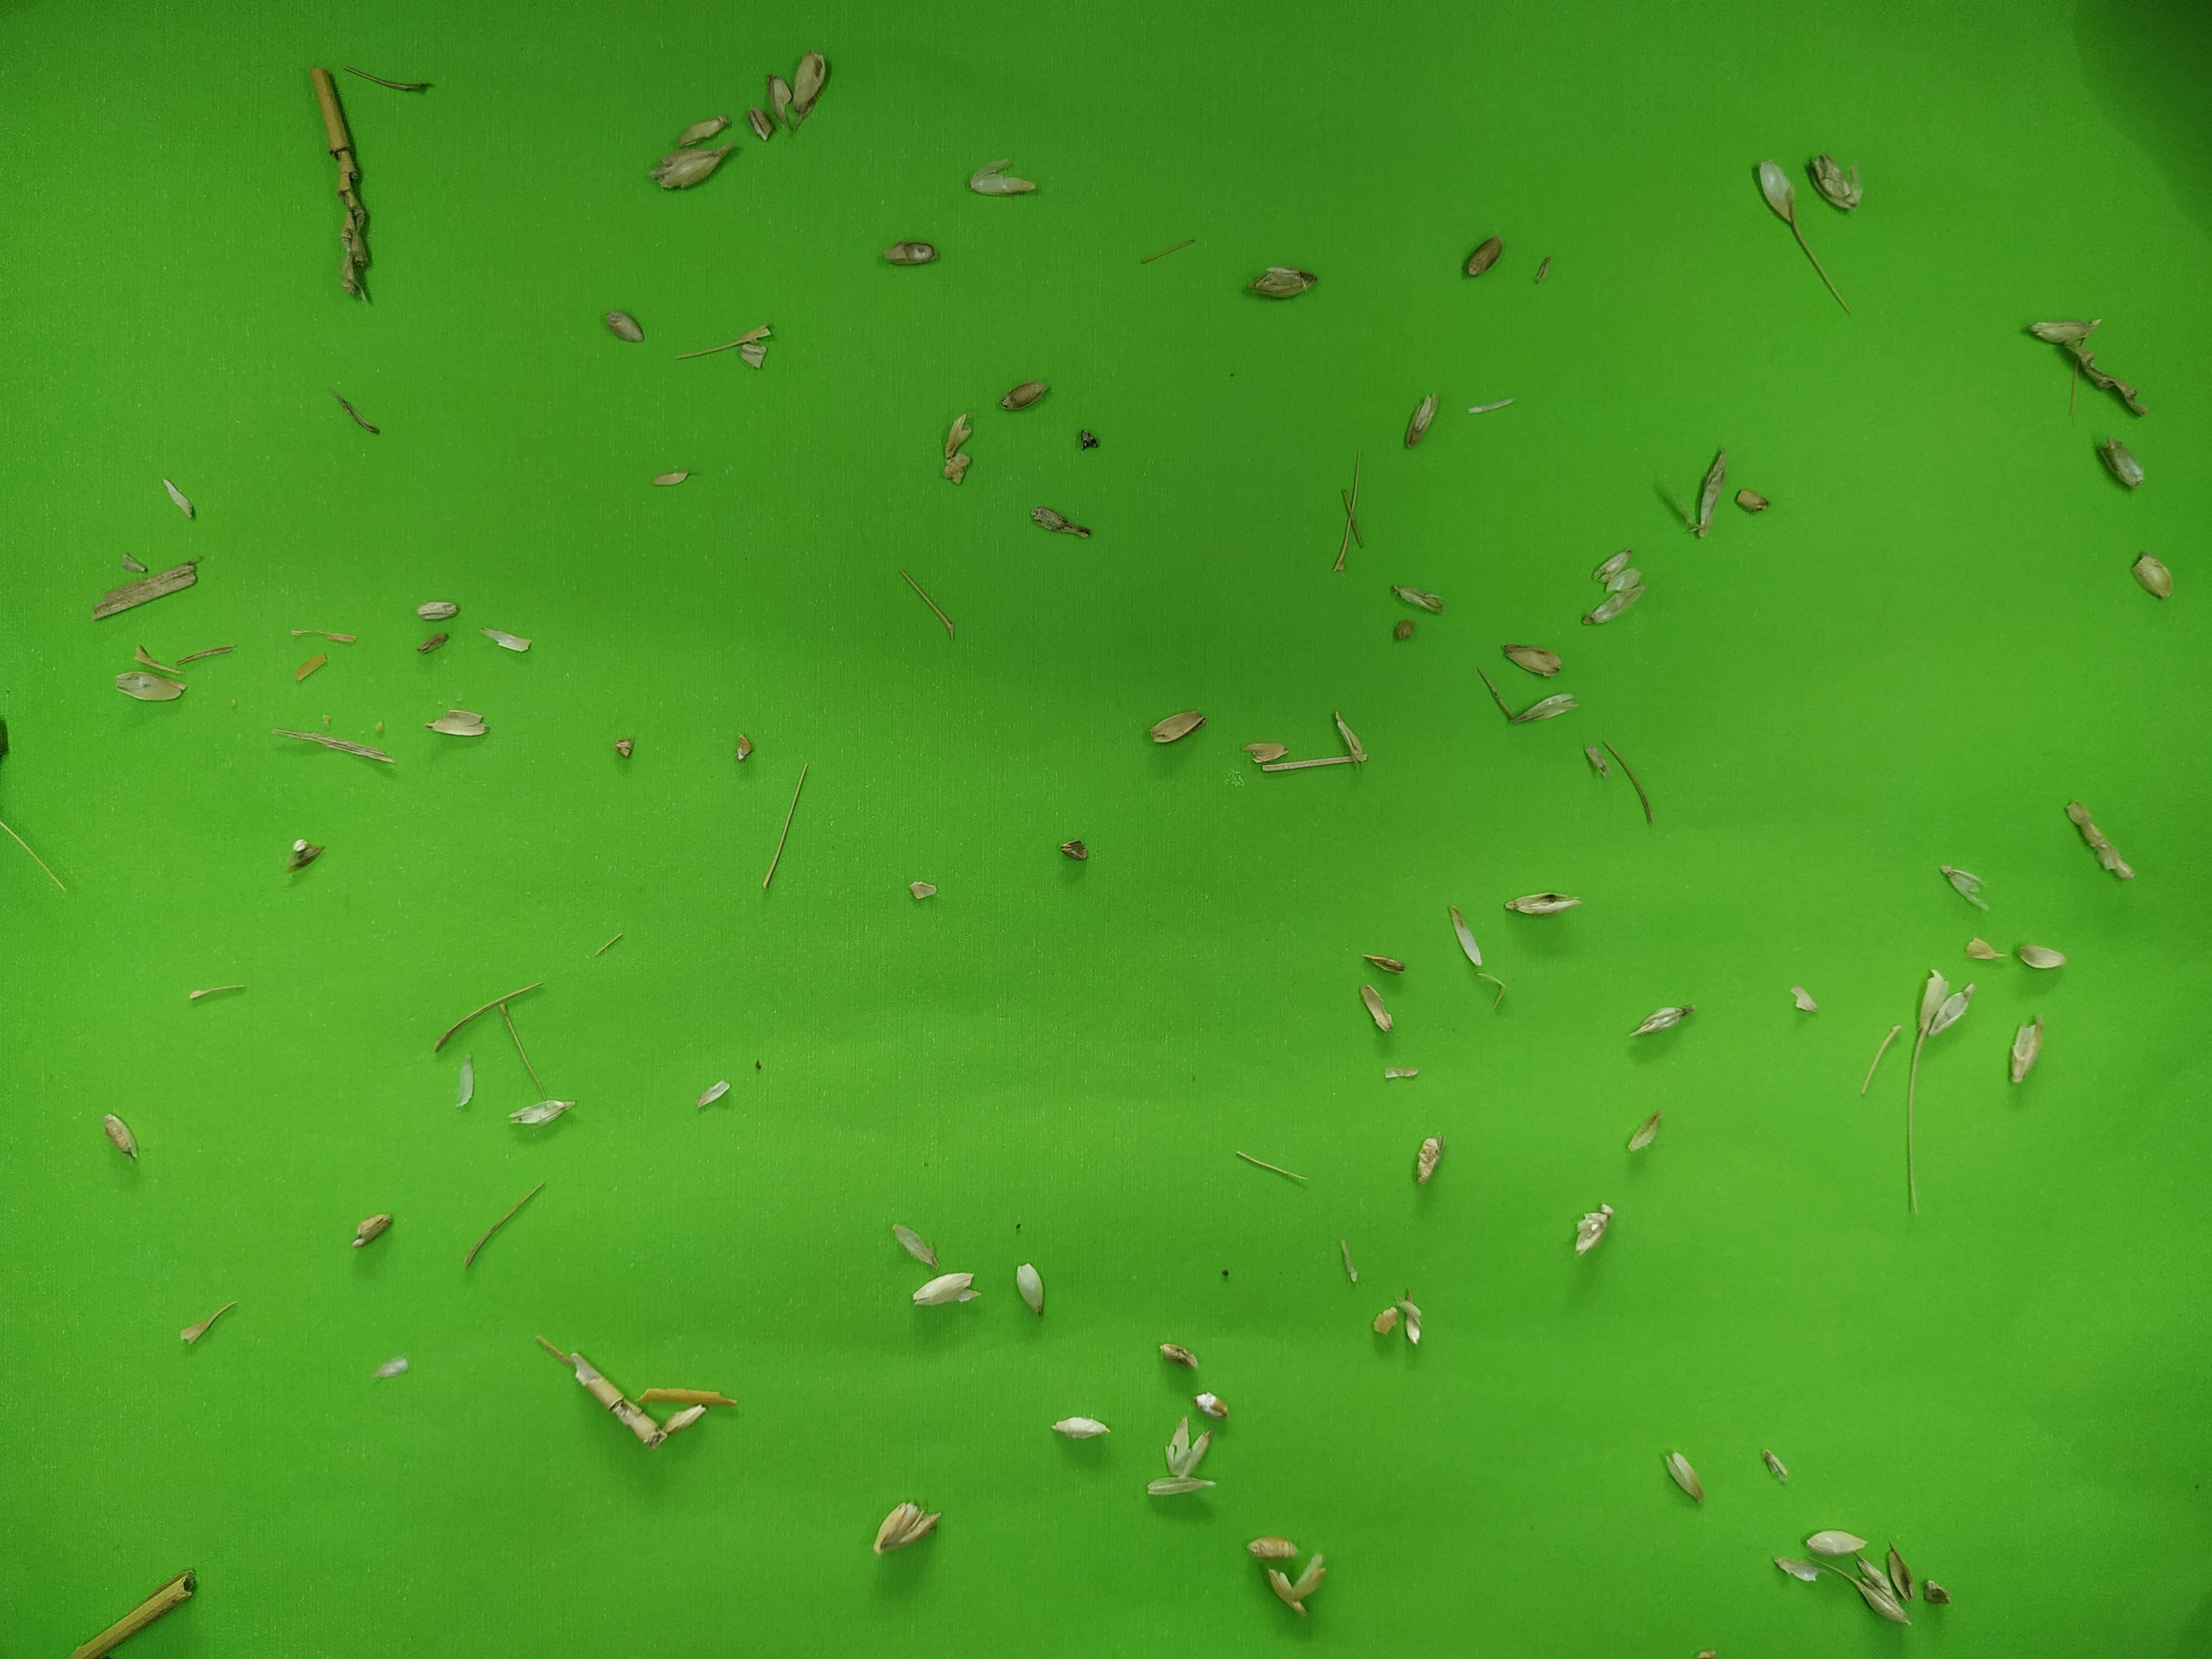impureza: (533, 1333, 740, 1446), (310, 61, 378, 307), (61, 1572, 197, 1659), (434, 978, 545, 1054), (465, 1180, 549, 1267), (2066, 795, 2137, 885), (91, 563, 202, 620), (671, 317, 787, 371), (270, 721, 399, 769), (2064, 347, 2153, 415), (1791, 221, 1851, 317), (763, 760, 806, 894), (1332, 441, 1376, 572), (1604, 730, 1662, 826), (1162, 1405, 1224, 1483), (1806, 150, 1876, 220), (2, 819, 64, 896), (1916, 964, 1977, 1042), (2005, 1002, 2055, 1094), (1895, 1037, 1932, 1164), (1573, 565, 1642, 629), (895, 566, 956, 640), (867, 1499, 946, 1554), (1238, 260, 1327, 308), (1858, 1018, 1909, 1103), (174, 1293, 242, 1356), (334, 61, 449, 98), (646, 145, 730, 192), (1693, 446, 1733, 544), (1752, 148, 1797, 234), (1857, 1551, 1911, 1621), (963, 160, 1040, 206), (2094, 436, 2146, 500), (789, 47, 833, 122), (1230, 1147, 1310, 1187), (2125, 547, 2179, 606), (937, 408, 977, 484), (413, 702, 493, 741), (907, 1269, 984, 1309), (1500, 885, 1580, 922), (1568, 1194, 1613, 1258), (1507, 688, 1576, 730), (1327, 709, 1376, 769), (2024, 312, 2104, 347), (758, 68, 799, 134), (1658, 1443, 1702, 1506), (1026, 504, 1094, 544), (341, 1209, 399, 1256), (516, 1096, 589, 1133), (446, 1046, 484, 1115), (1261, 751, 1362, 777), (110, 669, 188, 702), (890, 1218, 941, 1269), (1045, 1408, 1115, 1445), (1151, 701, 1209, 744), (1141, 232, 1205, 270), (1937, 863, 1989, 910), (327, 383, 380, 430), (1400, 389, 1440, 450), (1150, 1469, 1219, 1504), (1477, 662, 1519, 720), (1787, 1521, 1872, 1549), (131, 638, 188, 678), (1449, 901, 1480, 974), (1505, 643, 1564, 681), (1014, 1255, 1049, 1319), (1357, 974, 1395, 1032), (1266, 1568, 1308, 1621), (878, 235, 937, 272), (1383, 582, 1442, 619), (1627, 1007, 1689, 1040), (1885, 1537, 1916, 1601), (101, 1112, 139, 1162), (1472, 964, 1510, 1014), (590, 924, 637, 964), (603, 303, 646, 345), (172, 638, 237, 666), (1190, 1385, 1231, 1427), (1413, 1134, 1446, 1187), (1155, 1338, 1202, 1375), (1242, 1532, 1299, 1561), (1959, 934, 2008, 969), (1000, 375, 1049, 410), (1461, 237, 1503, 277), (282, 833, 322, 875), (1625, 1114, 1663, 1157), (1399, 1283, 1426, 1342), (2013, 941, 2066, 972), (1050, 835, 1097, 870), (413, 594, 462, 627), (646, 460, 695, 493), (516, 1053, 554, 1094), (678, 113, 728, 145), (1244, 735, 1289, 770), (482, 624, 529, 657), (1461, 390, 1521, 416), (1590, 545, 1632, 582), (368, 1352, 413, 1385), (693, 1075, 733, 1112), (160, 479, 197, 519), (183, 985, 247, 1007), (1331, 1236, 1359, 1288), (742, 103, 779, 141), (1578, 737, 1615, 775), (291, 648, 329, 683), (282, 624, 352, 643), (1730, 484, 1770, 518), (1379, 1054, 1421, 1086), (1298, 1553, 1327, 1596), (1806, 1556, 1850, 1586), (1766, 1556, 1818, 1581), (1784, 981, 1817, 1019), (1369, 1298, 1399, 1340), (1923, 1575, 1958, 1610), (728, 728, 759, 767), (1757, 1443, 1787, 1483), (413, 626, 449, 655), (1359, 951, 1406, 974), (606, 730, 641, 760), (904, 877, 941, 904), (1073, 423, 1106, 453), (1536, 247, 1561, 286), (1390, 619, 1420, 645)
